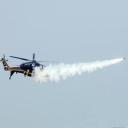helicopter: (2, 51, 60, 88)
